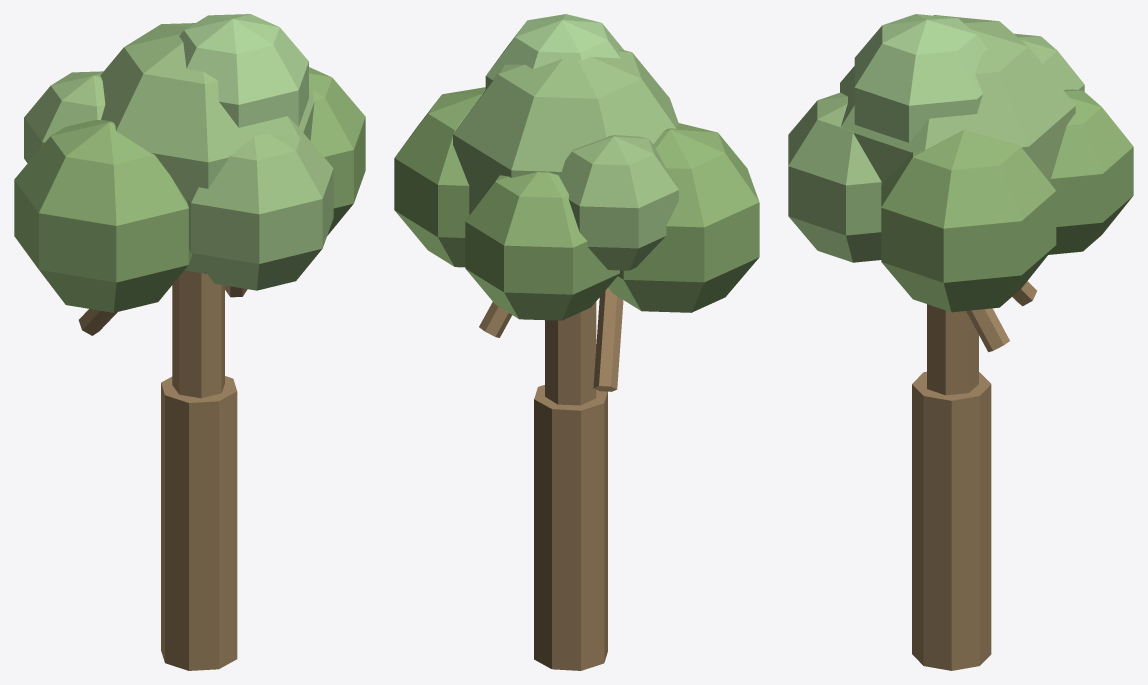
The model's file is tree_large.glb.
The picture shows the model from 3 angles, left to right: view 1: azimuth 30°, elevation 25°; view 2: azimuth 150°, elevation 25°; view 3: azimuth 270°, elevation 25°; orthographic projection. The views are drawn at different scales.
Visible parts, largest first — view 1: Tree_Large; view 2: Tree_Large; view 3: Tree_Large.
Boxes of the visible parts, x1,y1,x2,y2 form: Tree_Large: [14, 14, 365, 670]; Tree_Large: [394, 14, 759, 670]; Tree_Large: [788, 14, 1133, 670].
Bounding box in the file's own units: 3.18 × 5.73 × 2.78.
